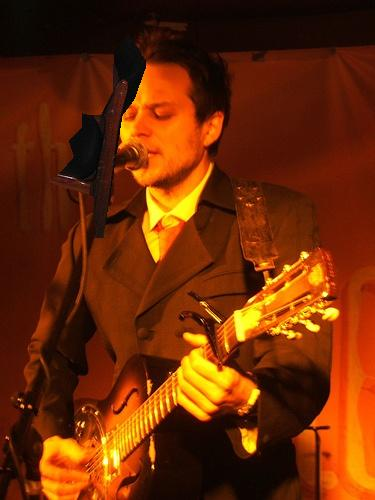tampered: (50, 34, 146, 238)
